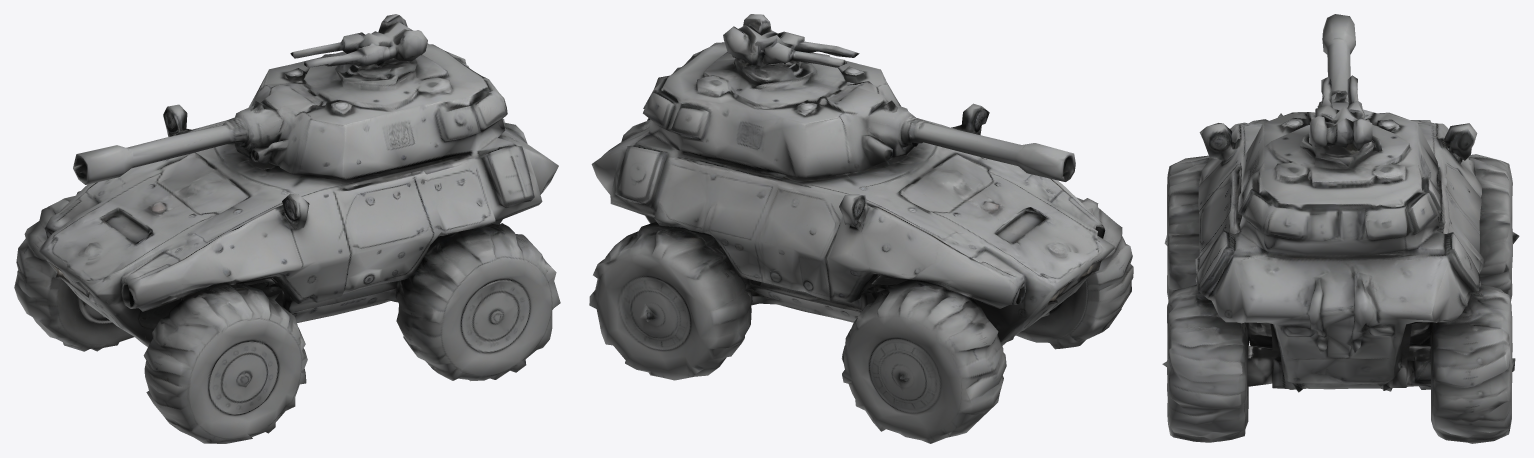
Rendered from Meshy_AI_A_lunar_artillery_tan_0418000218_texture.glb.
The picture shows the model from 3 angles, left to right: view 1: azimuth 30°, elevation 25°; view 2: azimuth 150°, elevation 25°; view 3: azimuth 270°, elevation 25°; orthographic projection. The views are drawn at different scales.
Bounding box in the file's own units: 2 × 1.32 × 1.36.
1 material, 1 textured.
